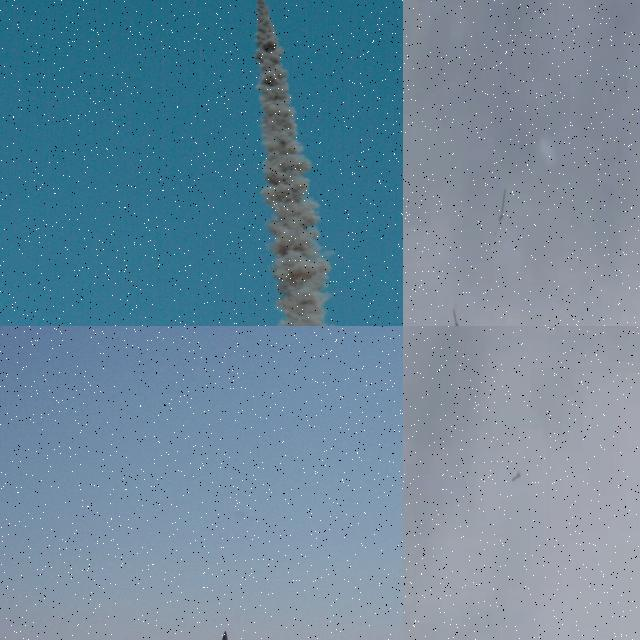Rocket: (452, 308, 459, 326), (512, 471, 521, 482)
